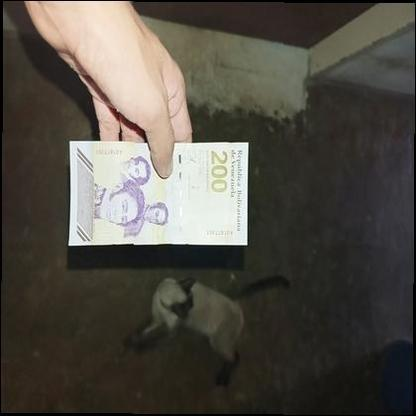two_hundred-front-vef: (67, 138, 249, 247)
